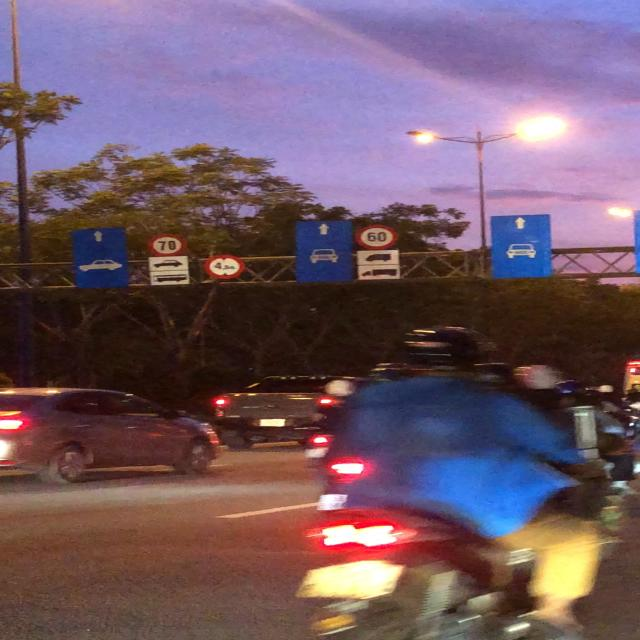Bien bao han che chieu cao: (199, 253, 248, 278)
Bien bao toc do toi da cho phep: (351, 225, 405, 251), (145, 232, 186, 256)
